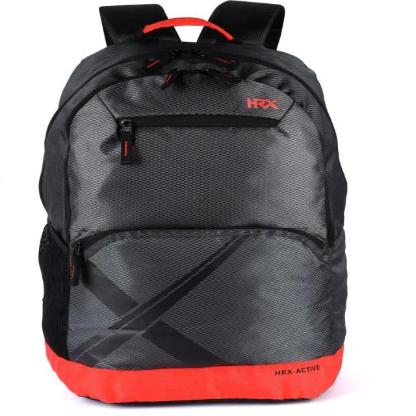bag: (37, 0, 349, 410)
